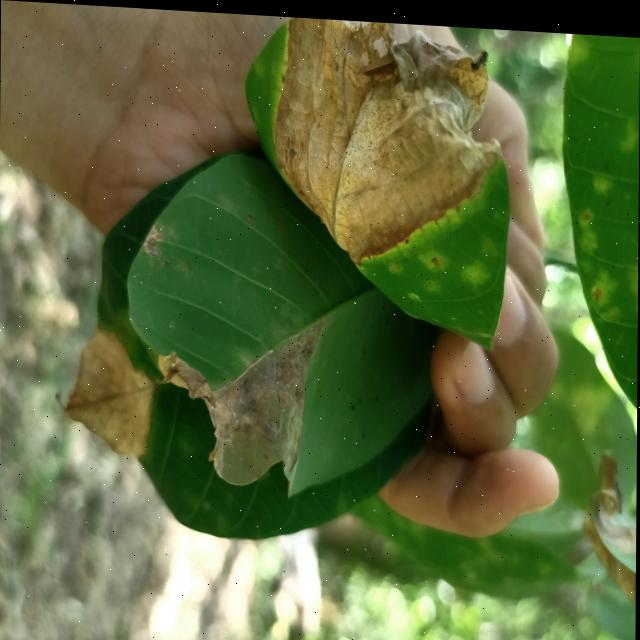Leaf-Blight: (272, 13, 503, 268), (156, 307, 326, 487), (56, 324, 157, 456)
